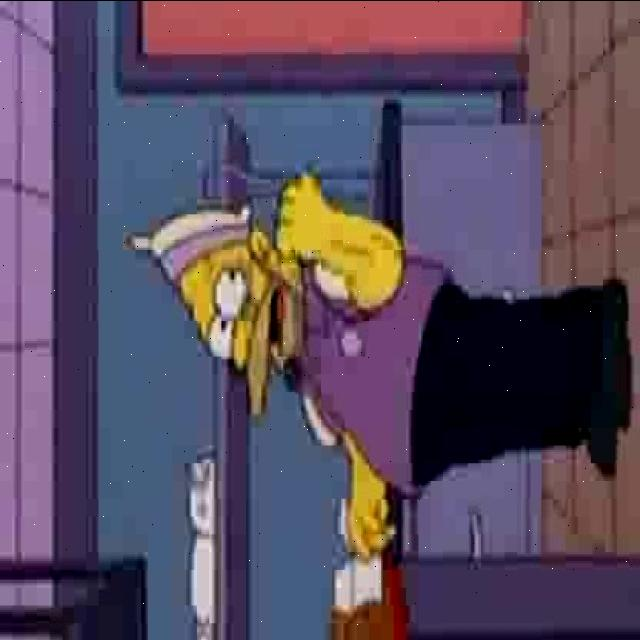Abraham Grampa Simpson: (172, 229, 308, 420)
